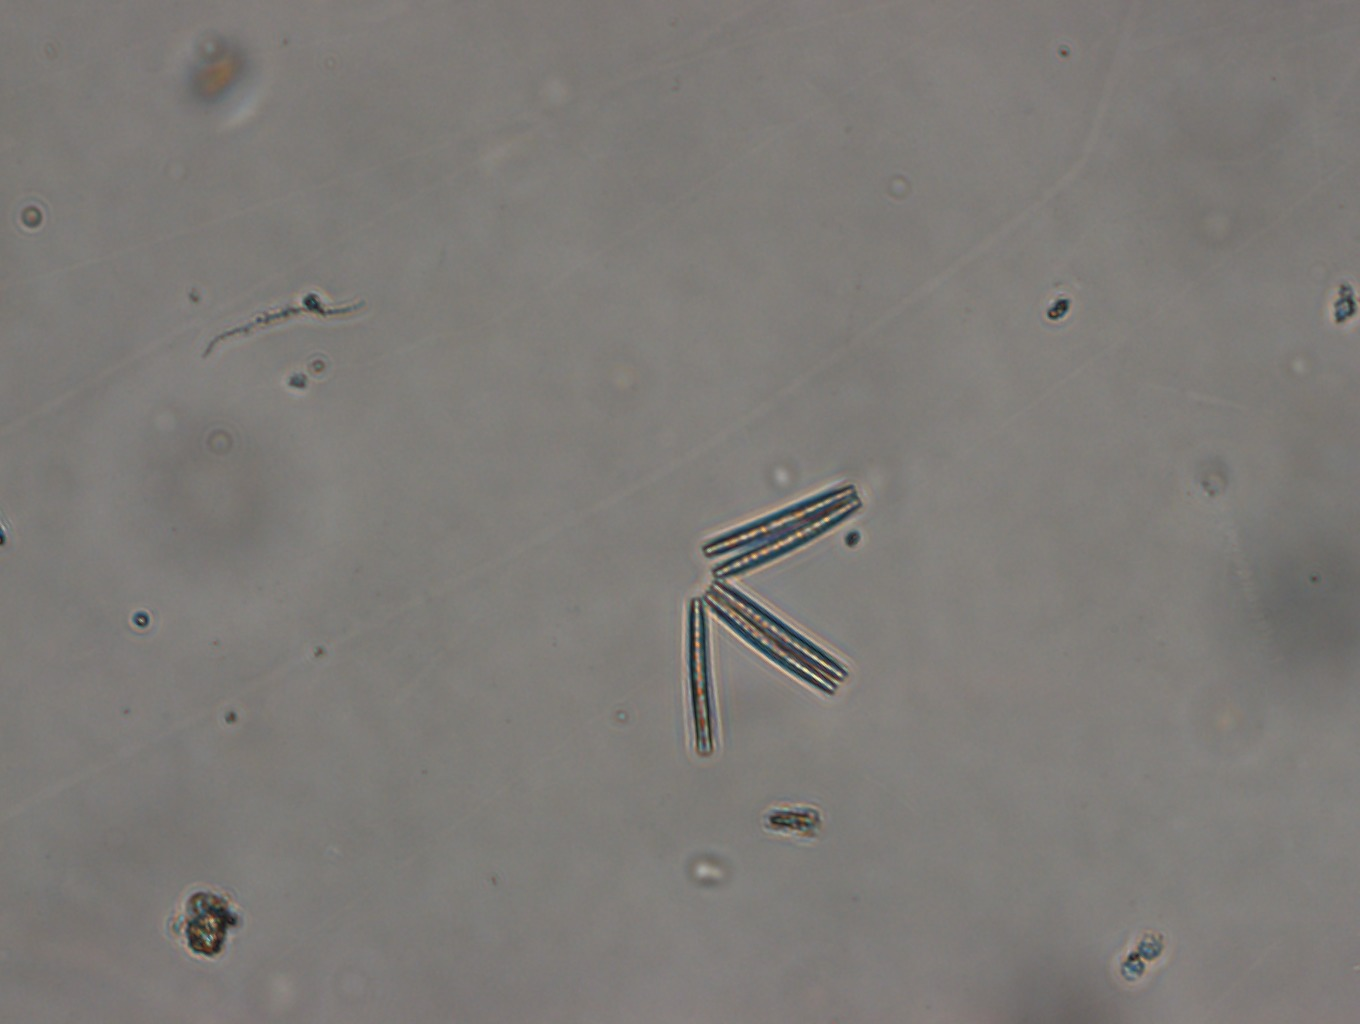thalassionema nitzschioides: (679, 473, 864, 752)
